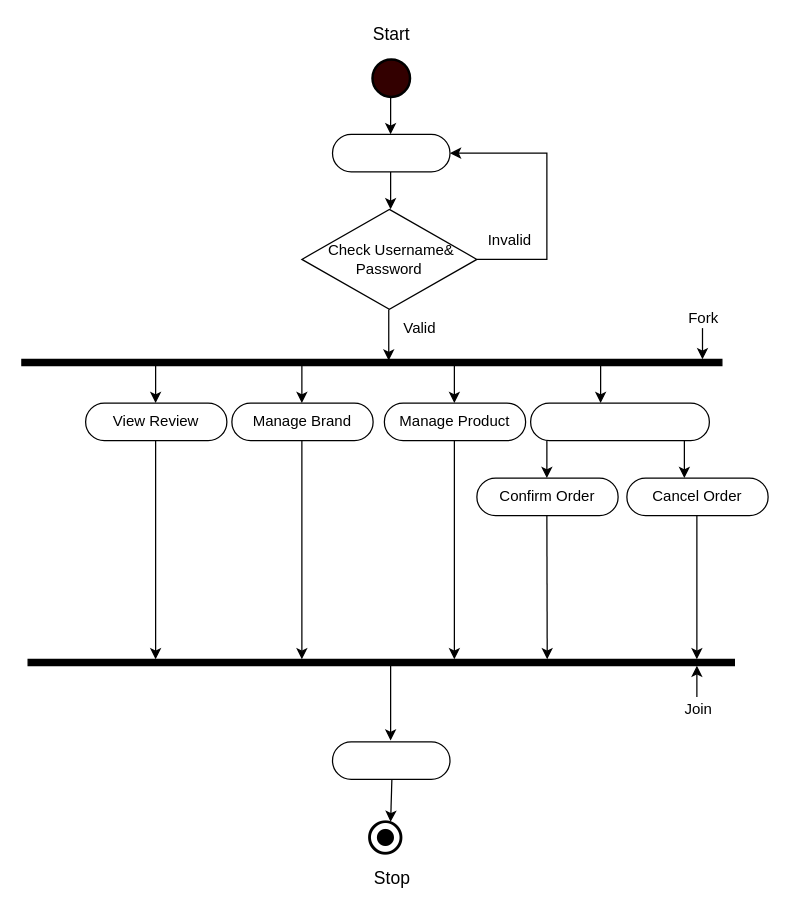
Some shapes in this 790 by 918 pixel diagram are drawn without their labels. Here are the shapes that lost their labels. From the top down, the centre of each, then its label:
At (x=390, y=152): "Login".
At (x=619, y=421): "Manage Order".
At (x=390, y=760): "Logout".
